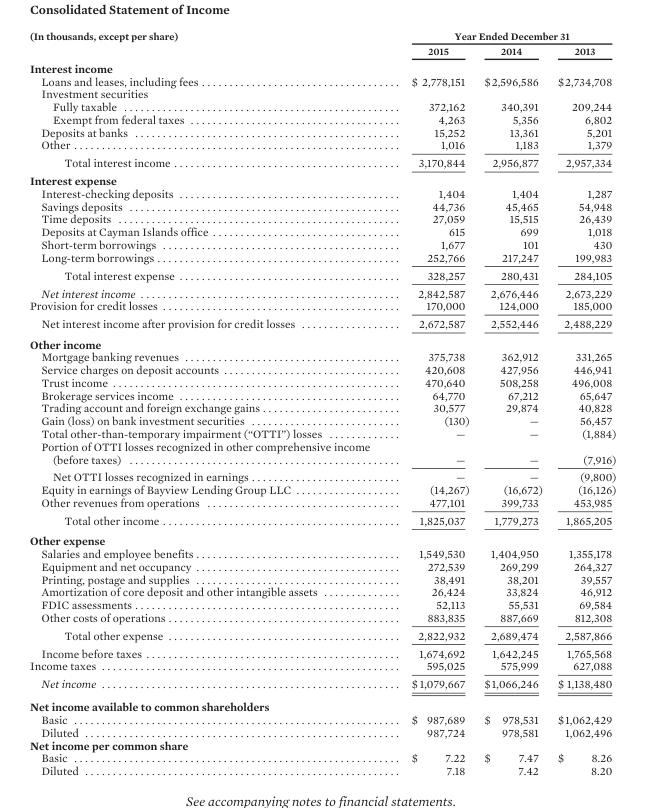table: (28, 29, 615, 777)
table column: (28, 29, 390, 777), (390, 29, 476, 777), (476, 29, 549, 777), (549, 29, 615, 777)
table column header: (28, 29, 615, 58)
table projected row header: (28, 333, 615, 350), (28, 695, 615, 712), (28, 58, 615, 74), (28, 530, 615, 546), (28, 171, 615, 186), (28, 738, 615, 751), (28, 87, 615, 99)
table row: (28, 439, 615, 467), (28, 674, 615, 695), (28, 314, 615, 333), (28, 511, 615, 530), (28, 153, 615, 171), (28, 265, 615, 283), (28, 626, 615, 644), (28, 333, 615, 350), (28, 695, 615, 712), (28, 42, 615, 58), (28, 58, 615, 74), (28, 283, 615, 299), (28, 467, 615, 483), (28, 495, 615, 511), (28, 530, 615, 546), (28, 610, 615, 626), (28, 138, 615, 153), (28, 171, 615, 186), (28, 250, 615, 265), (28, 299, 615, 314), (28, 644, 615, 659), (28, 659, 615, 674), (28, 29, 615, 42), (28, 74, 615, 87), (28, 99, 615, 112), (28, 112, 615, 125), (28, 125, 615, 138), (28, 186, 615, 199), (28, 199, 615, 212), (28, 212, 615, 225), (28, 237, 615, 250), (28, 350, 615, 363), (28, 375, 615, 388), (28, 388, 615, 401), (28, 401, 615, 414), (28, 426, 615, 439), (28, 546, 615, 559), (28, 559, 615, 572), (28, 572, 615, 585), (28, 585, 615, 598), (28, 712, 615, 725), (28, 725, 615, 738), (28, 738, 615, 751), (28, 751, 615, 764), (28, 764, 615, 777), (28, 87, 615, 99), (28, 225, 615, 237), (28, 363, 615, 375), (28, 414, 615, 426), (28, 483, 615, 495), (28, 598, 615, 610)
table spanning cell: (28, 29, 390, 58), (390, 29, 615, 42)
